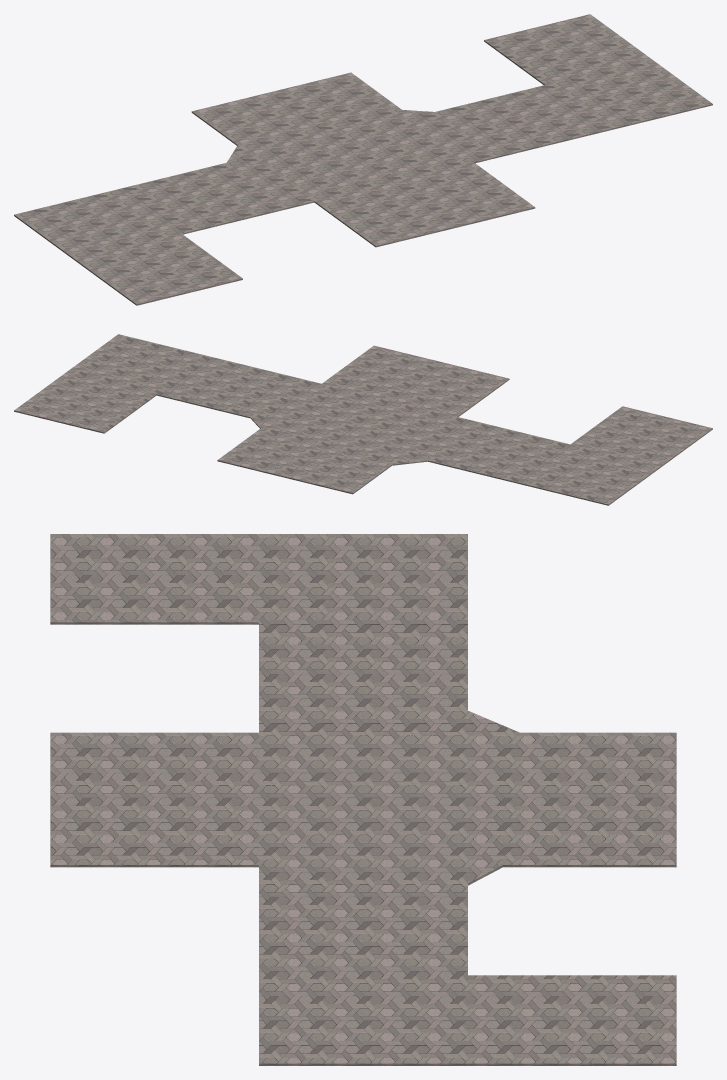
Rendered from groundmap.fbx.
The picture shows the model from 3 angles, top to bottom: view 1: azimuth 30°, elevation 25°; view 2: azimuth 150°, elevation 25°; view 3: azimuth 270°, elevation 25°; orthographic projection. The views are drawn at different scales.
Parts seen in each view (by area): view 1: GroundPath; view 2: GroundPath; view 3: GroundPath.
Part boxes in pixels (x1,y1,x2,y2): GroundPath: [14, 14, 712, 305]; GroundPath: [14, 334, 712, 505]; GroundPath: [50, 534, 676, 1065].
Size of the model in its own units: 240 by 0.5 by 120.
